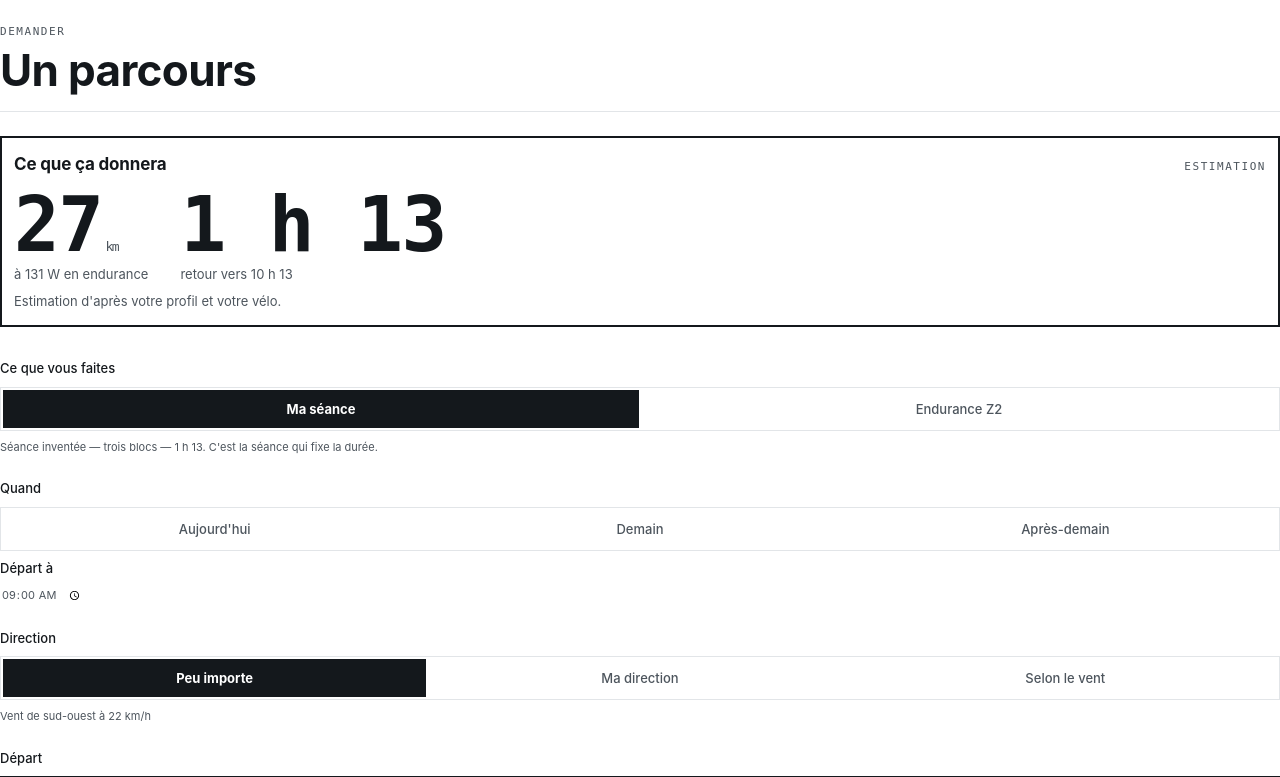
Scenario: le libellé « Direction » ne se répète plus (signalé le 18/09/2026) › distingue le choix du mode de celui du point cardinal
Expected: the text "Direction" is shown once, [0, 630, 56, 646]
Expected: the text "Point cardinal" is not shown
Click the button "Ma direction" at (640,678), box [428, 659, 852, 697]
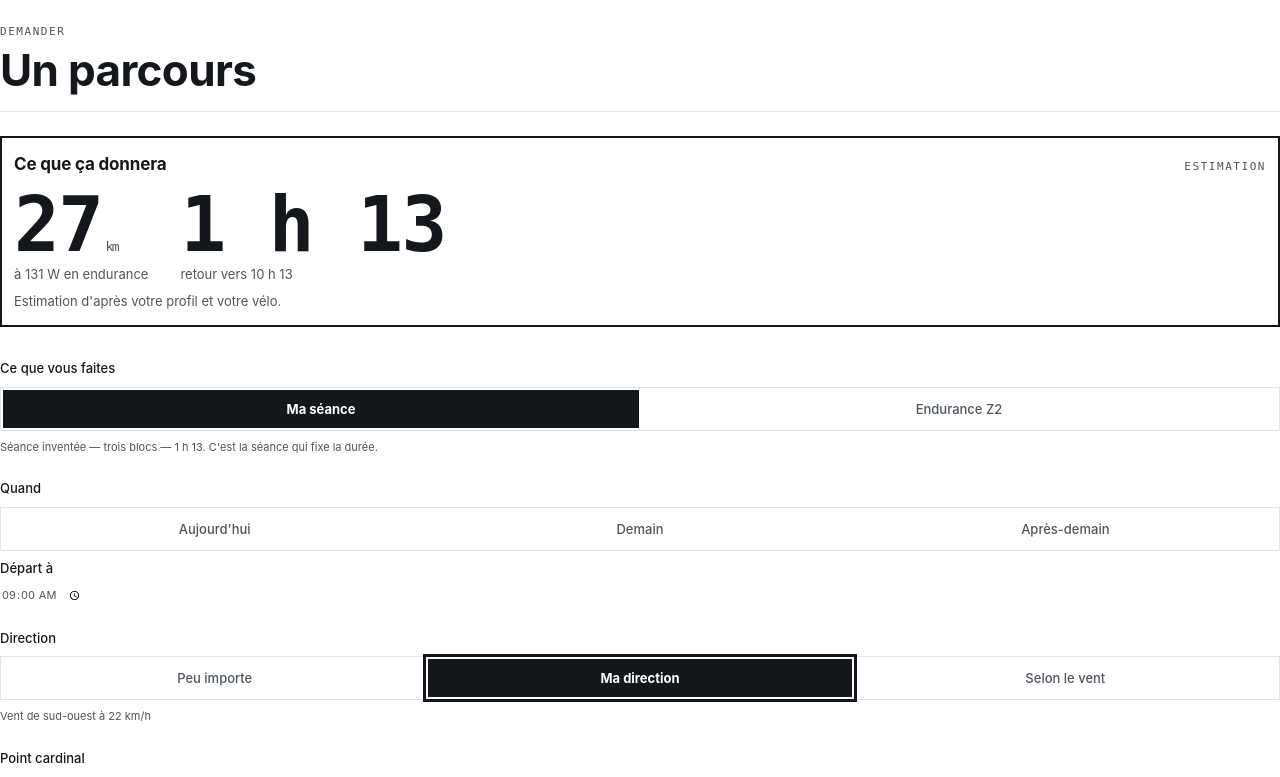
Now the text "Direction" is shown once, box [0, 630, 56, 646]
Now the text "Point cardinal" is shown, box [0, 750, 85, 766]
